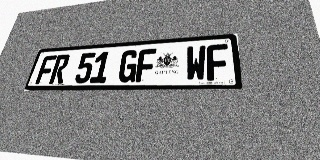1: (89, 51, 111, 83)
5: (74, 52, 96, 83)
F: (207, 44, 229, 81), (135, 48, 156, 82), (35, 55, 57, 84)
G: (117, 50, 139, 83)
R: (49, 54, 71, 84)
W: (185, 45, 206, 81)
